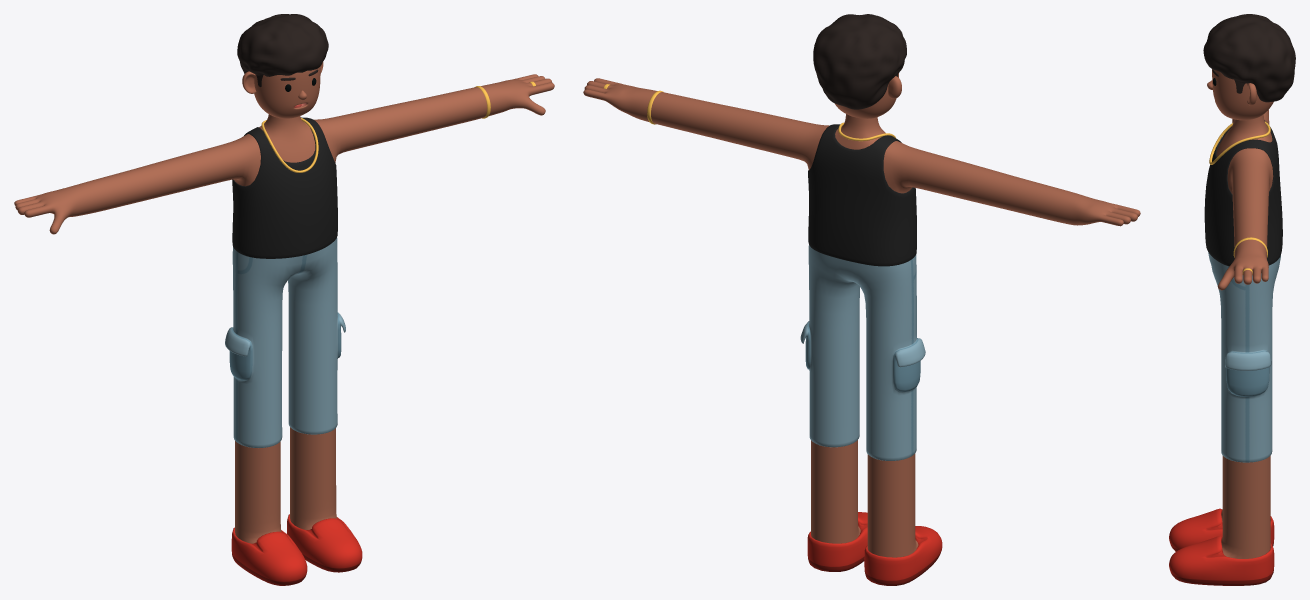
The model's file is BOY 10.fbx.
3 renders of one model, left to right at view 1: azimuth 30°, elevation 25°; view 2: azimuth 150°, elevation 25°; view 3: azimuth 270°, elevation 25°, orthographic. The views are drawn at different scales.
Parts seen in each view (by area): view 1: BOY_BODY.010, BOY 10_SHORTS, BOY 10_SHIRT, BOY 10_HAIR, BOY_10_SHOES.R, BOY_10_SHOES.L; view 2: BOY_BODY.010, BOY 10_SHORTS, BOY 10_SHIRT, BOY 10_HAIR, BOY_10_SHOES.R, BOY_10_SHOES.L; view 3: BOY_BODY.010, BOY 10_SHORTS, BOY 10_HAIR, BOY 10_SHIRT, BOY_10_SHOES.L, BOY_10_SHOES.R, BOY 10_NECKLACE.
Part boxes in pixels (x1,y1,x2,y2): BOY_BODY.010: [14, 61, 554, 543]; BOY 10_SHORTS: [225, 238, 345, 447]; BOY 10_SHIRT: [232, 117, 337, 258]; BOY 10_HAIR: [237, 14, 328, 86]; BOY_10_SHOES.R: [231, 527, 307, 585]; BOY_10_SHOES.L: [287, 514, 362, 572]; BOY_BODY.010: [583, 73, 1140, 557]; BOY 10_SHORTS: [800, 245, 925, 460]; BOY 10_SHIRT: [808, 124, 916, 266]; BOY 10_HAIR: [813, 14, 906, 109]; BOY_10_SHOES.R: [864, 526, 942, 585]; BOY_10_SHOES.L: [807, 512, 867, 571]; BOY_BODY.010: [1207, 69, 1273, 558]; BOY 10_SHORTS: [1208, 252, 1280, 462]; BOY 10_HAIR: [1203, 14, 1295, 102]; BOY 10_SHIRT: [1204, 120, 1282, 266]; BOY_10_SHOES.L: [1169, 536, 1274, 585]; BOY_10_SHOES.R: [1169, 508, 1274, 551]; BOY 10_NECKLACE: [1209, 121, 1270, 164].
Size of the model in its own units: 205 by 196 by 41.47.
12 materials, 8 textured.
